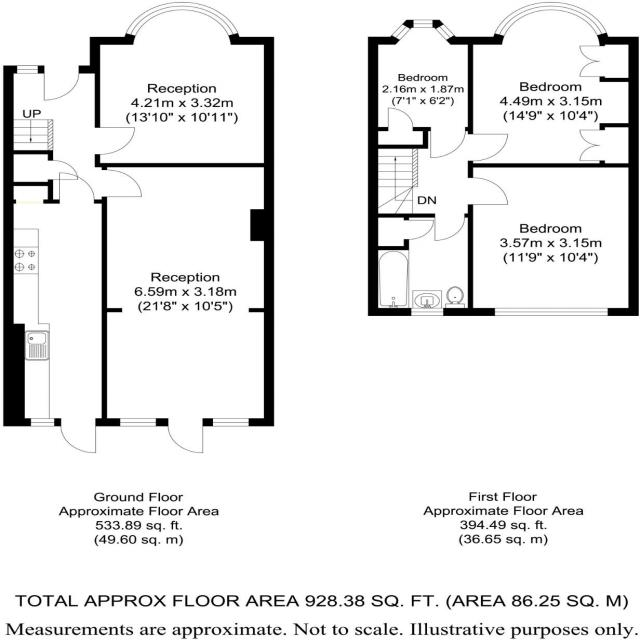DOOR: (166, 418, 205, 454), (59, 418, 97, 454), (43, 65, 80, 101), (467, 176, 509, 206), (102, 168, 144, 198), (428, 126, 466, 159), (57, 172, 96, 204), (94, 126, 136, 155), (468, 133, 509, 162), (433, 213, 466, 241)
ROOM: (101, 163, 275, 455), (90, 1, 275, 168), (2, 172, 108, 454), (467, 1, 639, 168), (467, 163, 639, 317), (368, 19, 474, 159)
WINDOW: (493, 1, 608, 37), (125, 1, 240, 37), (493, 307, 610, 317), (390, 23, 412, 41), (118, 417, 157, 427), (211, 417, 250, 427), (435, 23, 456, 41), (410, 308, 444, 317), (29, 417, 56, 427), (16, 65, 39, 74), (412, 19, 434, 28)
